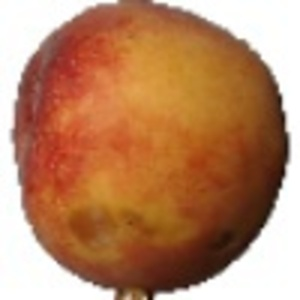pêssego: (11, 1, 292, 300)
